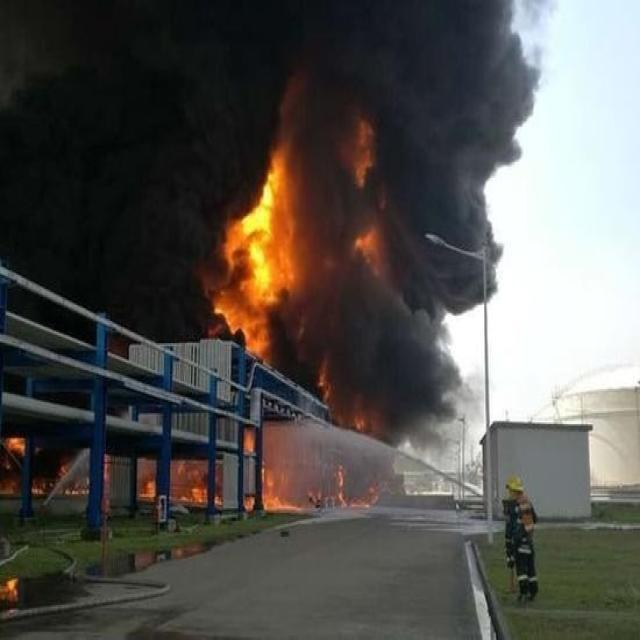Fire: (213, 165, 294, 361), (31, 460, 91, 496), (336, 464, 381, 509), (262, 465, 305, 510), (354, 120, 372, 190), (176, 486, 208, 505), (355, 227, 377, 253), (4, 438, 26, 458), (138, 479, 156, 498), (243, 430, 254, 454), (241, 496, 255, 512)
Smoke: (1, 2, 558, 456)
